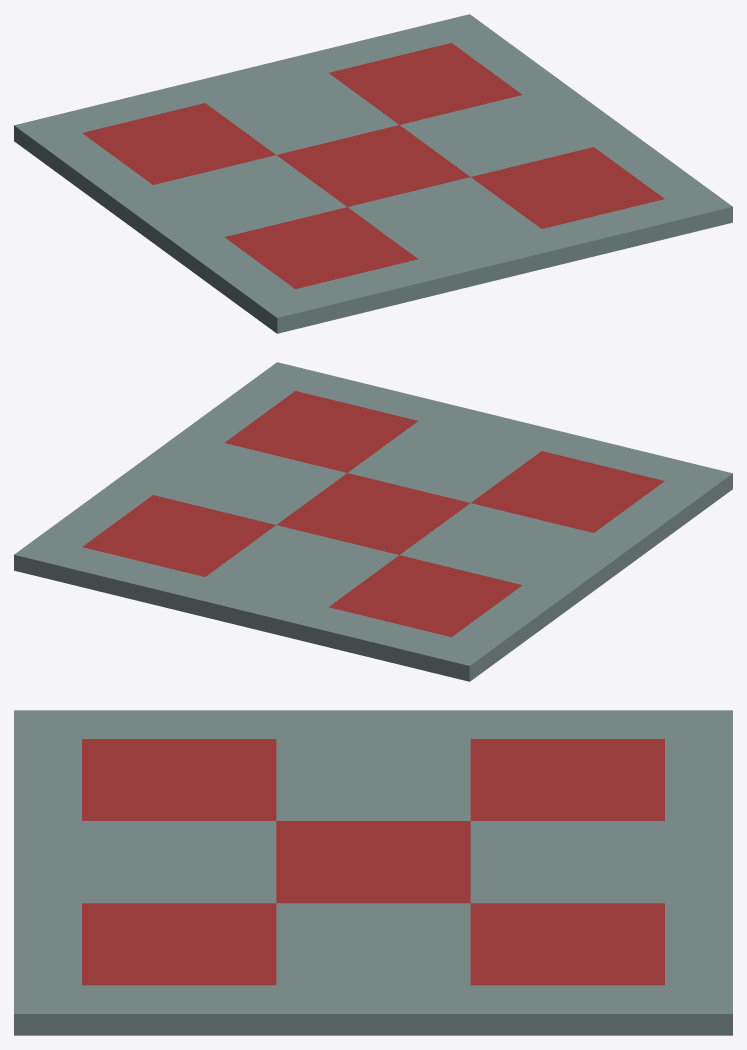
Rendered from platform.fbx.
3 renders of one model, top to bottom at view 1: azimuth 30°, elevation 25°; view 2: azimuth 150°, elevation 25°; view 3: azimuth 270°, elevation 25°, orthographic. The views are drawn at different scales.
Parts seen in each view (by area): view 1: platform; view 2: platform; view 3: platform.
Boxes of the visible parts, bbox=[...] form: platform: bbox=[14, 14, 732, 333]; platform: bbox=[14, 362, 732, 681]; platform: bbox=[14, 710, 732, 1035].
Size of the model in its own units: 2.55 by 0.085 by 2.55.
